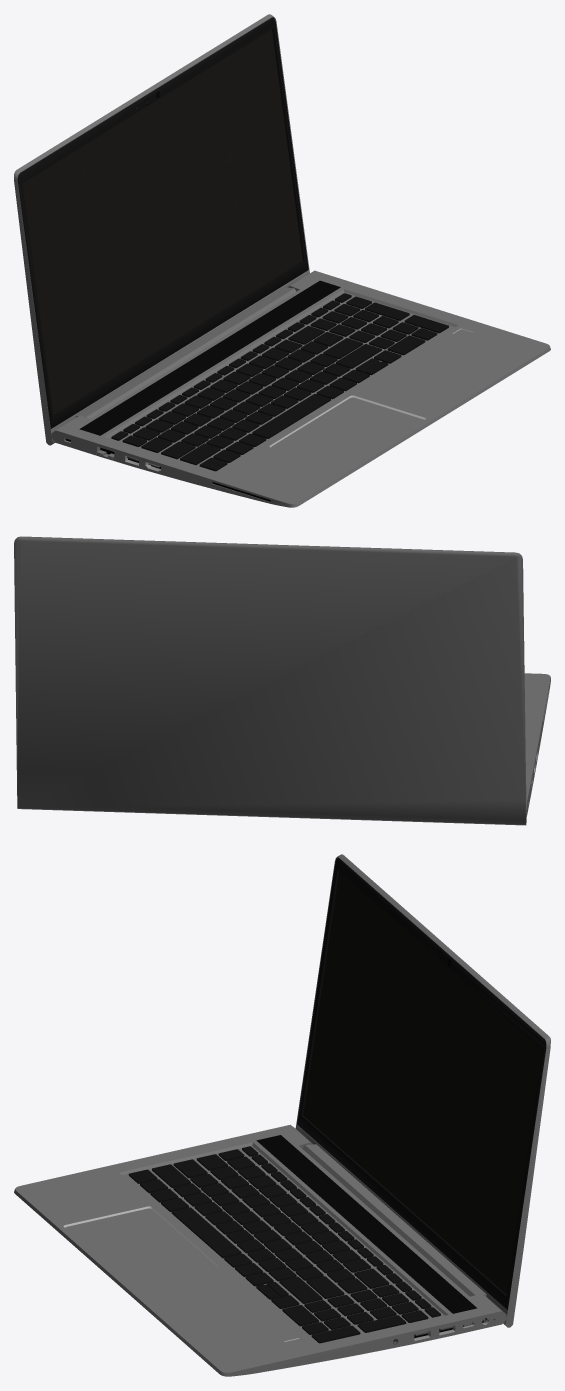
The model's file is Laptop.fbx.
3 renders of one model, top to bottom at view 1: azimuth 30°, elevation 25°; view 2: azimuth 150°, elevation 25°; view 3: azimuth 270°, elevation 25°, orthographic. The views are drawn at different scales.
Visible parts, largest first — view 1: lid, body; view 2: lid, body; view 3: lid, body.
Part boxes in pixels (x1=…): lid: x1=14, y1=14, x2=309, y2=445; body: x1=51, y1=270, x2=550, y2=507; lid: x1=14, y1=536, x2=526, y2=825; body: x1=524, y1=673, x2=550, y2=816; lid: x1=295, y1=854, x2=550, y2=1327; body: x1=14, y1=1124, x2=506, y2=1376.
Bounding box in the file's own units: 112 × 58.95 × 101.
